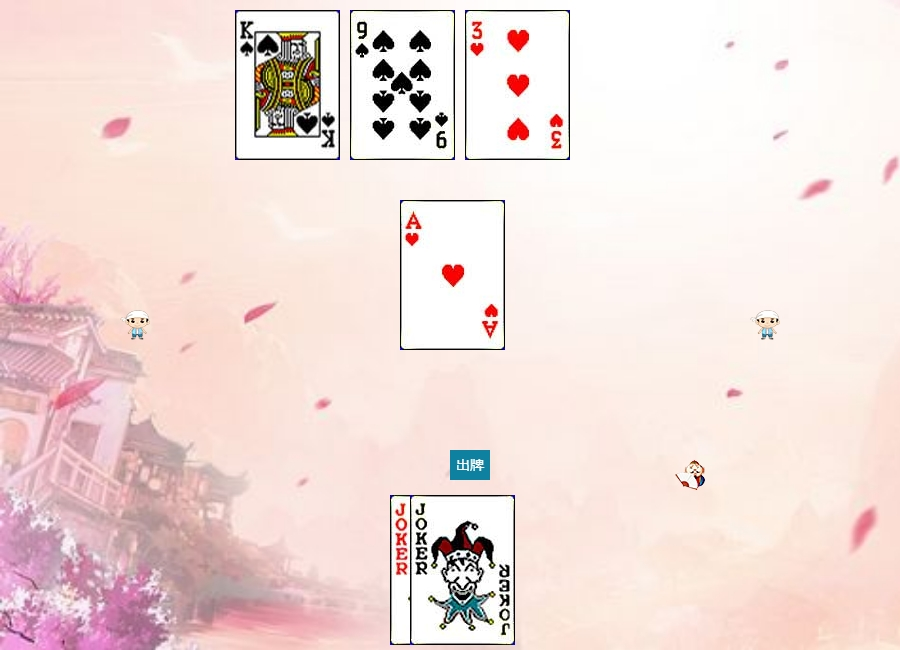13~4: (235, 10, 340, 160)
14~3: (400, 200, 505, 350)
17~3: (410, 495, 515, 645)
18~4: (390, 495, 495, 645)
3~3: (465, 10, 570, 160)
9~4: (350, 10, 455, 160)
